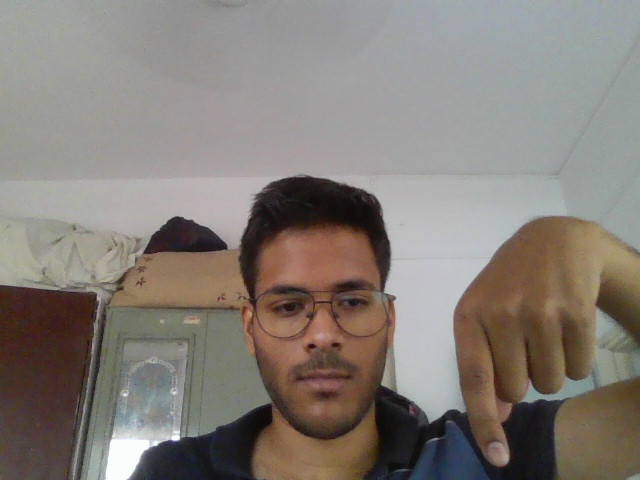yes: (423, 202, 637, 471)
